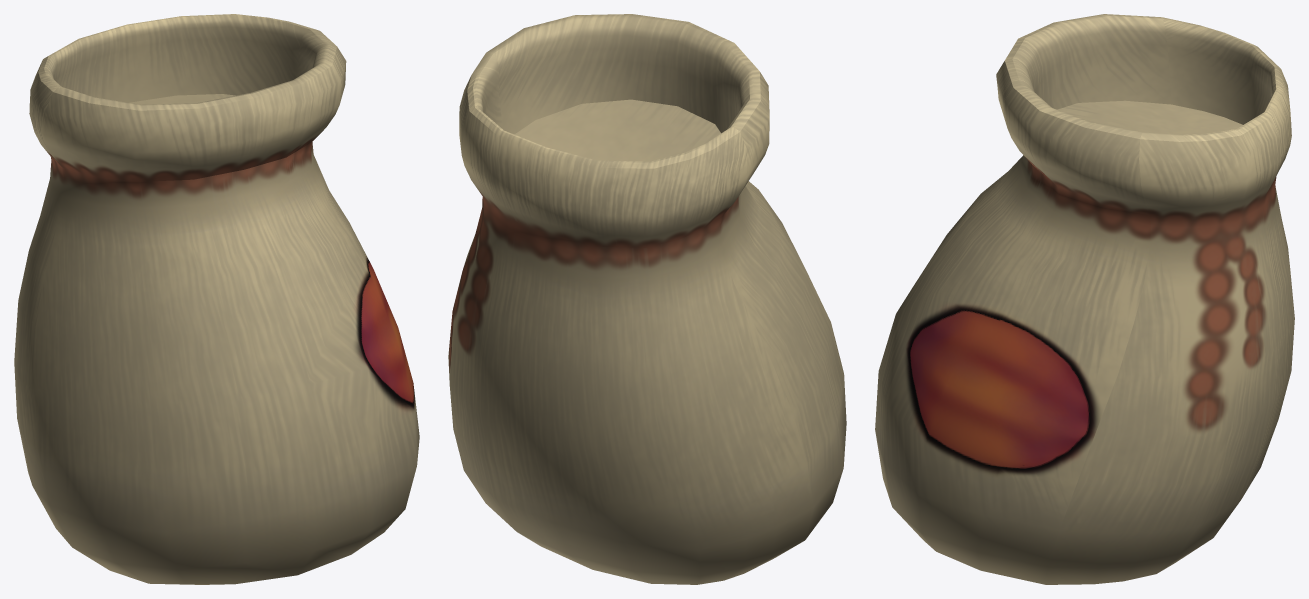
File: Model_TexturaSacoAberto3Cacau_v1.fbx
The picture shows the model from 3 angles, left to right: view 1: azimuth 30°, elevation 25°; view 2: azimuth 150°, elevation 25°; view 3: azimuth 270°, elevation 25°; orthographic projection. The views are drawn at different scales.
Parts seen in each view (by area): view 1: saco parede.003; view 2: saco parede.003; view 3: saco parede.003.
Boxes of the visible parts, x1,y1,x2,y2 form: saco parede.003: (14, 14, 419, 584); saco parede.003: (448, 14, 846, 584); saco parede.003: (875, 14, 1294, 584).
Bounding box in the file's own units: 217 × 299 × 231.
